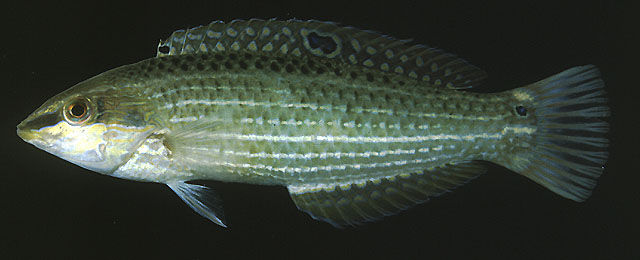fish: (16, 17, 609, 229)
